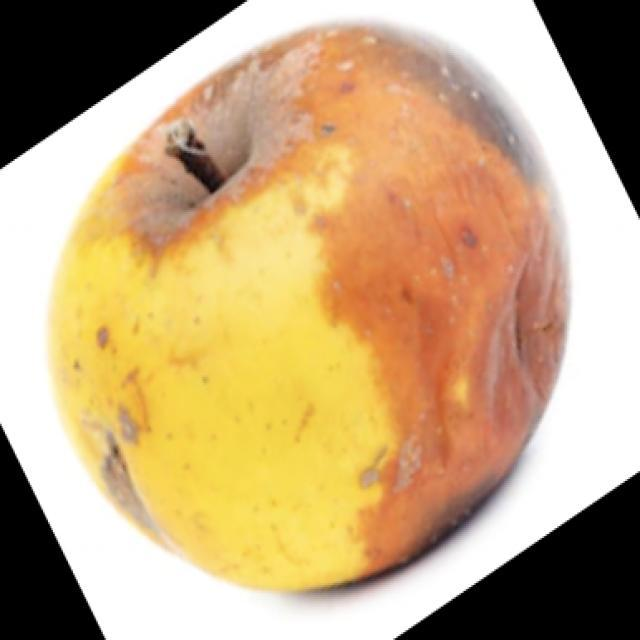Rotten: (17, 30, 575, 578)
